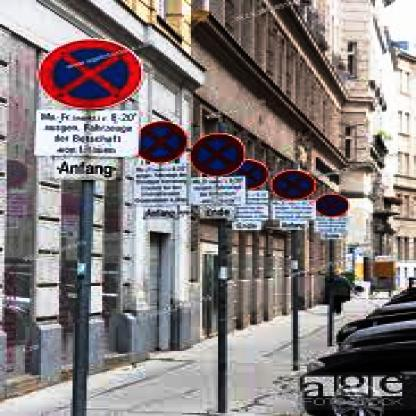No stopping: (46, 33, 146, 114), (190, 134, 250, 172), (133, 121, 186, 163), (274, 170, 312, 199), (232, 158, 266, 188), (315, 194, 349, 218)
